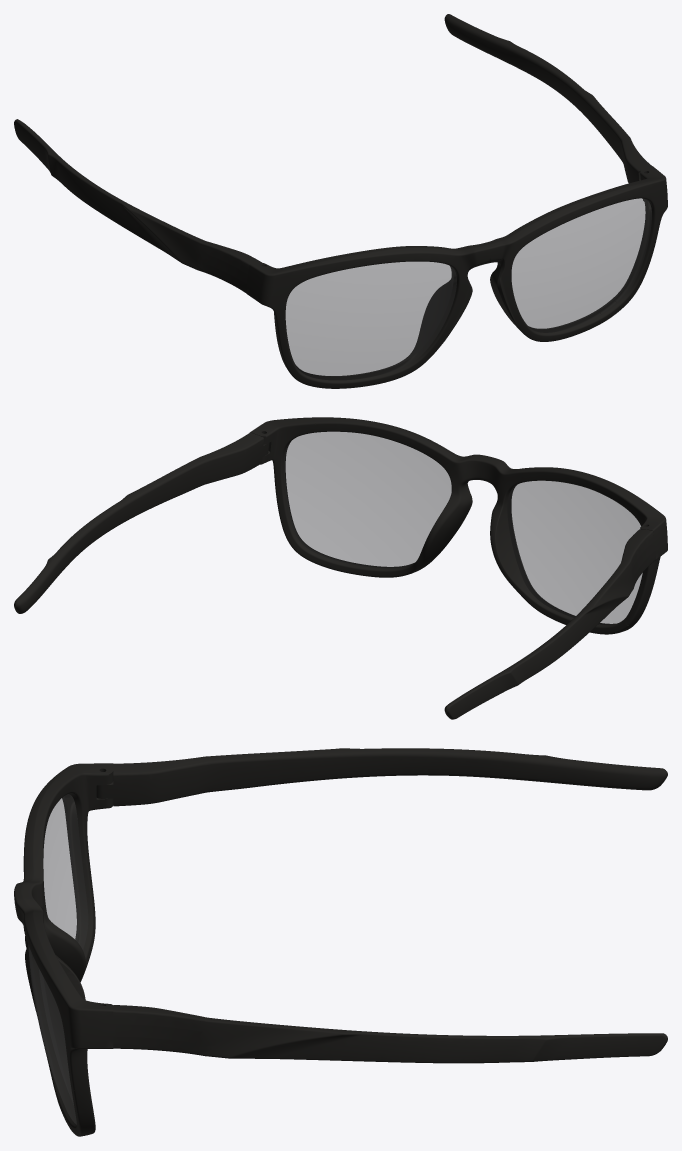
3 renders of one model, top to bottom at view 1: azimuth 30°, elevation 25°; view 2: azimuth 150°, elevation 25°; view 3: azimuth 270°, elevation 25°, orthographic. The views are drawn at different scales.
Parts seen in each view (by area): view 1: Frame, LensR, LensL, TempleR, TempleL; view 2: LensL, Frame, LensR, TempleL, TempleR; view 3: Frame, TempleL, TempleR, LensR, LensL.
Boxes of the visible parts, x1,y1,x2,y2 form: Frame: [246, 166, 667, 388]; LensR: [286, 262, 456, 379]; LensL: [512, 198, 651, 332]; TempleR: [14, 119, 262, 293]; TempleL: [444, 14, 651, 183]; LensL: [284, 432, 451, 567]; Frame: [250, 417, 667, 634]; LensR: [507, 481, 642, 624]; TempleL: [14, 432, 263, 613]; TempleR: [444, 529, 655, 719]; Frame: [14, 763, 115, 1136]; TempleL: [113, 1005, 667, 1063]; TempleR: [113, 748, 667, 806]; LensR: [43, 794, 87, 948]; LensL: [28, 946, 76, 1123].
Size of the model in its own units: 0.1671 by 0.048 by 0.1586.
3 materials, 3 textured.
